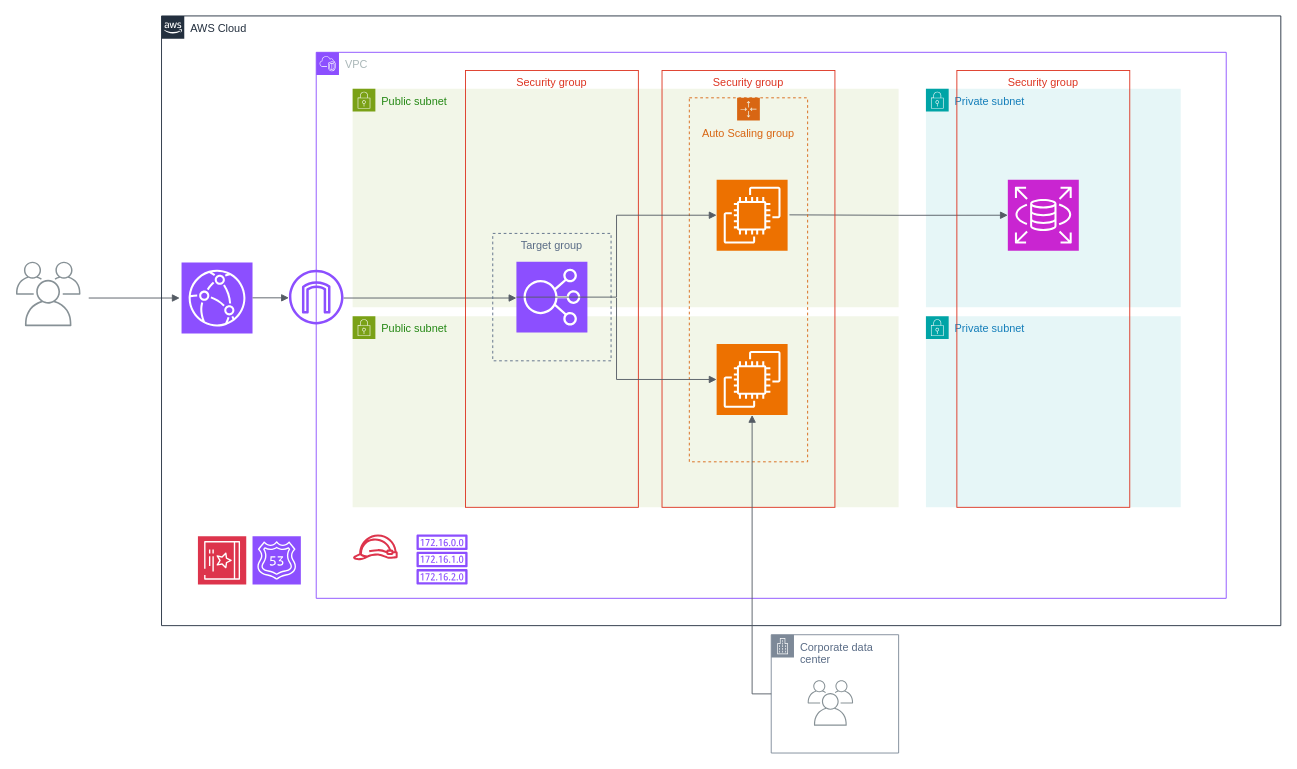
Image size: 1297x769. Some labels were removed from this diagram. Here are the shapes that lost their labels. From the top down, the centre of each, then its label:
(47,293): users
(830,702): Developers
